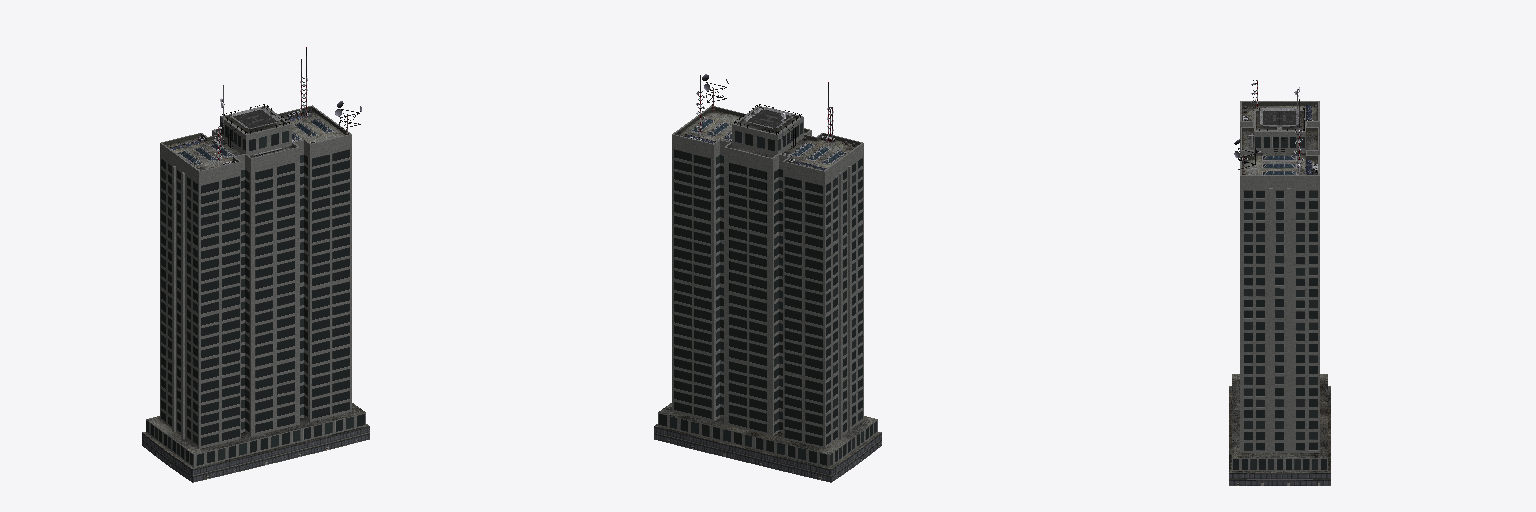
3 views of the same model, side by side, from view 1: azimuth 30°, elevation 25°; view 2: azimuth 150°, elevation 25°; view 3: azimuth 270°, elevation 25° (orthographic).
Parts seen in each view (by area): view 1: Object003f, Object003g, Object003d; view 2: Object003f, Object003g; view 3: Object003f, Object003g.
Boxes of the visible parts, box(x1,y1,x2,y2) form: Object003f: box(142, 105, 369, 482); Object003g: box(166, 101, 361, 169); Object003d: box(170, 47, 311, 164); Object003f: box(654, 105, 881, 482); Object003g: box(678, 74, 854, 164); Object003f: box(1229, 101, 1330, 485); Object003g: box(1234, 105, 1317, 174).
Size of the model in its own units: 77.46 by 154 by 38.43.
Materials: 3 (3 with a texture image).